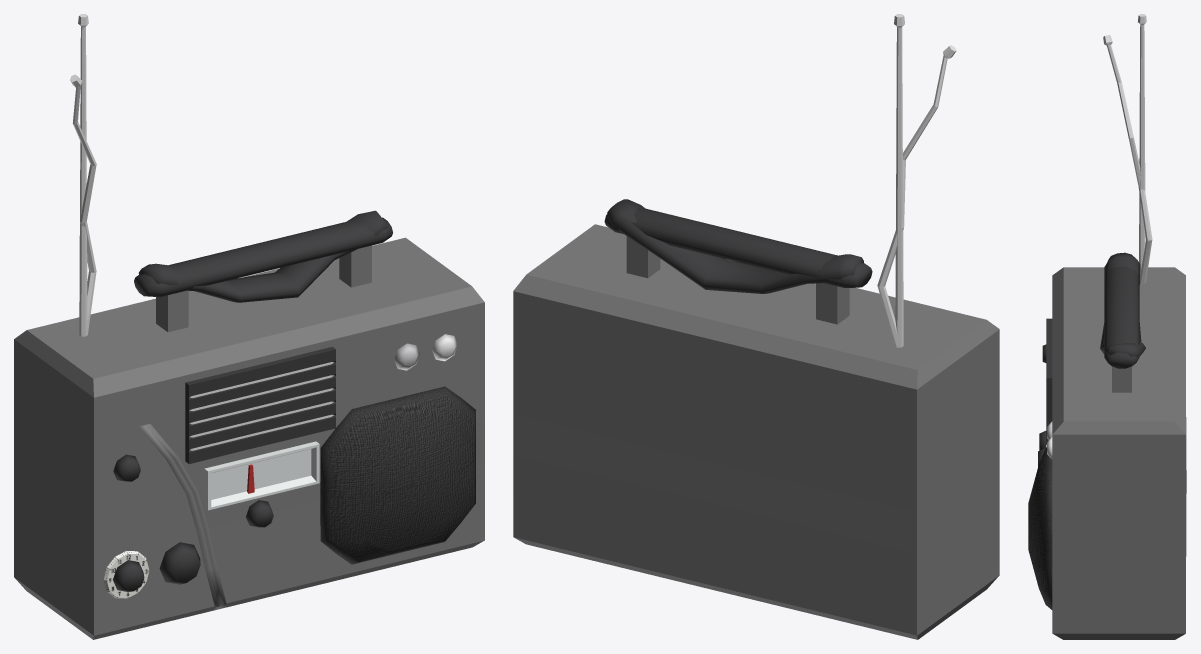
Rendered from Radio(OLD).fbx.
3 renders of one model, left to right at view 1: azimuth 30°, elevation 25°; view 2: azimuth 150°, elevation 25°; view 3: azimuth 270°, elevation 25°, orthographic. The views are drawn at different scales.
Parts seen in each view (by area): view 1: RadioBody L, RadioBody R, Radio Speakerbase, Radio Handle normal, Radio Jaggety-doo, Radio Jaggety-doo2, Radio tuner plate, Radio Handle Bent, Radio Antenna Straight, Radio SIlverbackdropthing, Radio Antenna Bent, Radio knob2 (+4 smaller); view 2: RadioBody L, RadioBody R, Radio Handle normal, Radio Handle Bent, Radio Antenna Straight, Radio Antenna Bent, Radio handle rod1, Radio handle rod2; view 3: RadioBody R, RadioBody L, Radio Handle normal, Radio Speakerbase, Radio Antenna Bent, Radio Antenna Straight, Radio Handle Bent, Radio handle rod2, Radio Jaggety-doo2, Radio Jaggety-doo.
Boxes of the visible parts, x1,y1,x2,y2 form: RadioBody L: (14,270,342,639); RadioBody R: (267,237,484,597); Radio Speakerbase: (320,386,475,564); Radio Handle normal: (134,217,392,296); Radio Jaggety-doo: (185,361,277,464); Radio Jaggety-doo2: (247,346,335,449); Radio tuner plate: (204,441,319,510); Radio Handle Bent: (138,210,387,302); Radio Antenna Straight: (78,14,88,336); Radio SIlverbackdropthing: (189,362,334,450); Radio Antenna Bent: (70,74,96,335); Radio knob2: (159,542,200,584); RadioBody L: (654,261,999,639); RadioBody R: (513,224,753,599); Radio Handle normal: (604,207,872,287); Radio Handle Bent: (607,199,863,293); Radio Antenna Straight: (894,14,904,347); Radio Antenna Bent: (877,45,956,347); Radio handle rod1: (816,283,849,324); Radio handle rod2: (626,236,660,278); RadioBody R: (1052,365,1186,639); RadioBody L: (1052,267,1186,477); Radio Handle normal: (1104,264,1139,368); Radio Speakerbase: (1028,447,1052,609); Radio Antenna Bent: (1103,35,1152,283); Radio Antenna Straight: (1138,14,1146,275); Radio Handle Bent: (1100,252,1145,356); Radio handle rod2: (1112,366,1131,392); Radio Jaggety-doo2: (1046,355,1052,444); Radio Jaggety-doo: (1046,318,1052,354).
Bounding box in the file's own units: 1.09 × 1.55 × 0.4566.
Materials: 8 (3 with a texture image).
